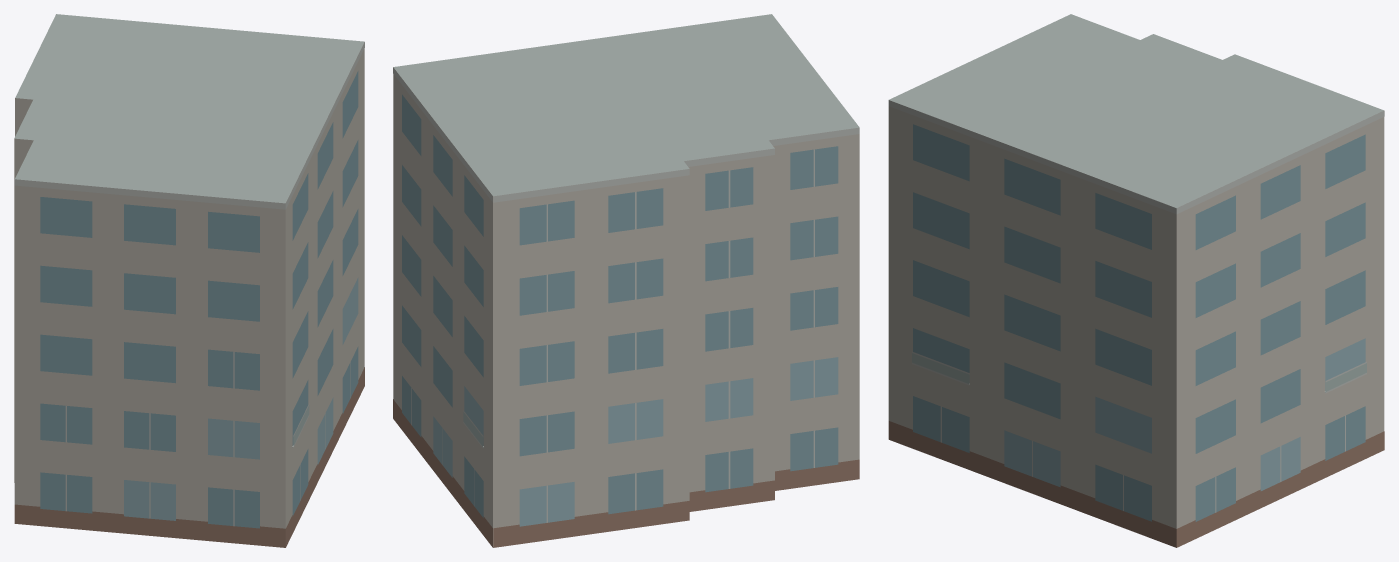
File: survey-upis-32623816.glb
3 views of the same model, side by side, from view 1: azimuth 30°, elevation 25°; view 2: azimuth 150°, elevation 25°; view 3: azimuth 270°, elevation 25° (orthographic). The views are drawn at different scales.
Visible parts, largest first — view 1: survey-upis-32623816.tmp; view 2: survey-upis-32623816.tmp; view 3: survey-upis-32623816.tmp.
Boxes of the visible parts, bbox=[...] form: survey-upis-32623816.tmp: bbox=[14, 14, 364, 547]; survey-upis-32623816.tmp: bbox=[393, 14, 859, 547]; survey-upis-32623816.tmp: bbox=[888, 14, 1384, 547].
Size of the model in its own units: 16.38 by 13.35 by 17.67.
